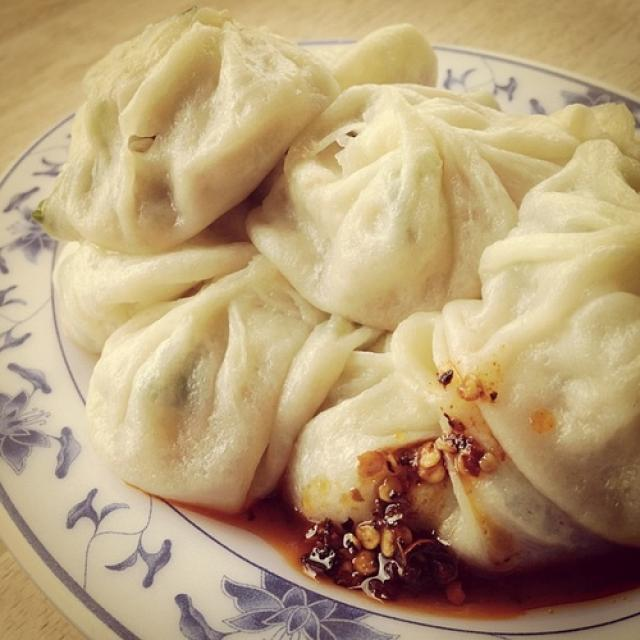带馅早点: (36, 18, 619, 610)
